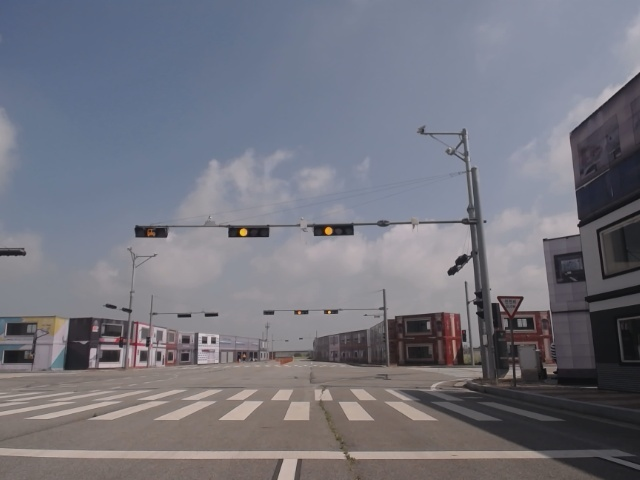orange_4: (315, 224, 354, 236), (228, 226, 269, 237)
